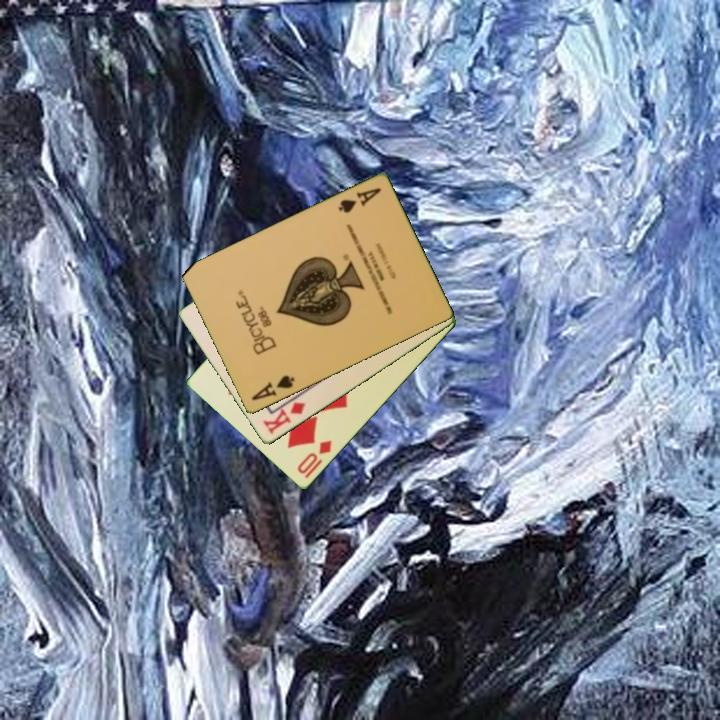10d: (293, 437, 335, 482)
As: (248, 372, 298, 404), (334, 185, 384, 216)
Kd: (259, 399, 308, 437)
